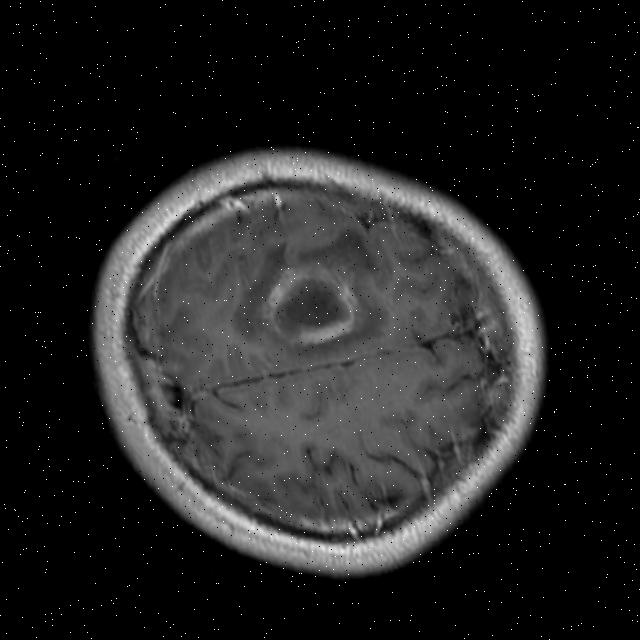Glioma: (246, 250, 367, 359)
